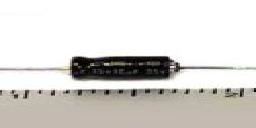Electrolytic-Capacitor: (1, 55, 256, 83)
